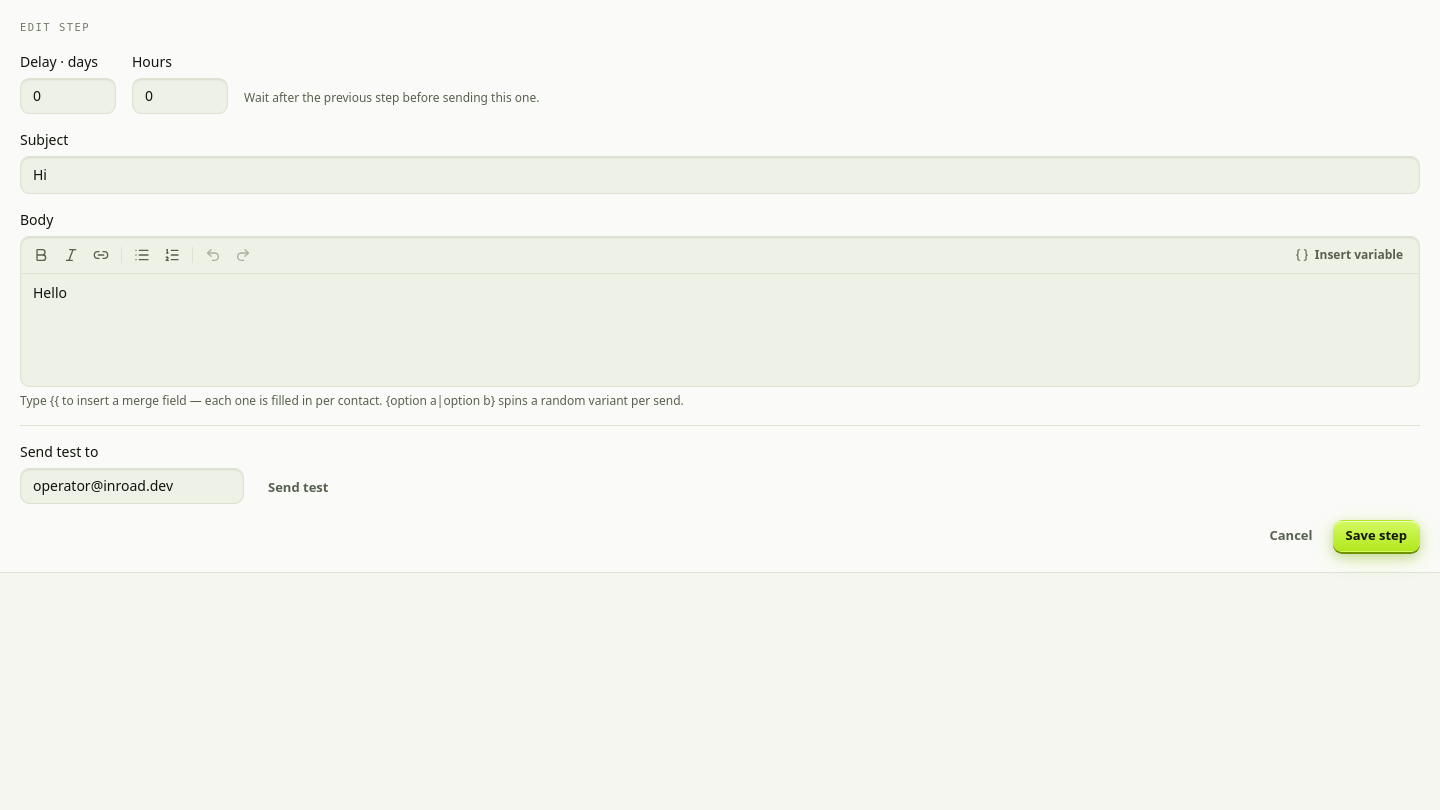
Test: a custom address overrides the default and is the one sent + echoed
Replace the text in the field labelled "Send test to" with "reviewer@inroad.dev": (132, 486) 20,468 -> 244,504
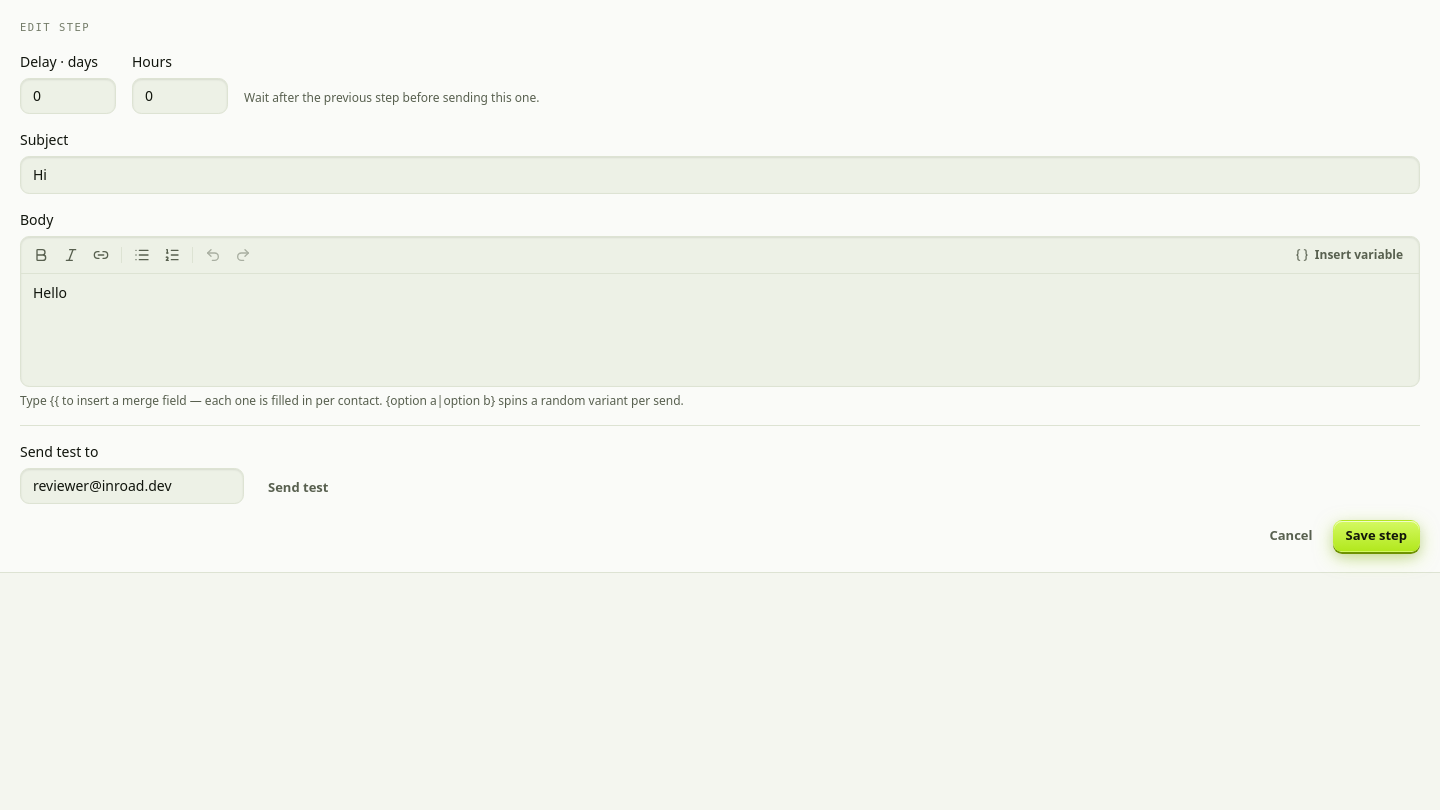
Click the button "Send test": (298, 488) 256,472 -> 340,504
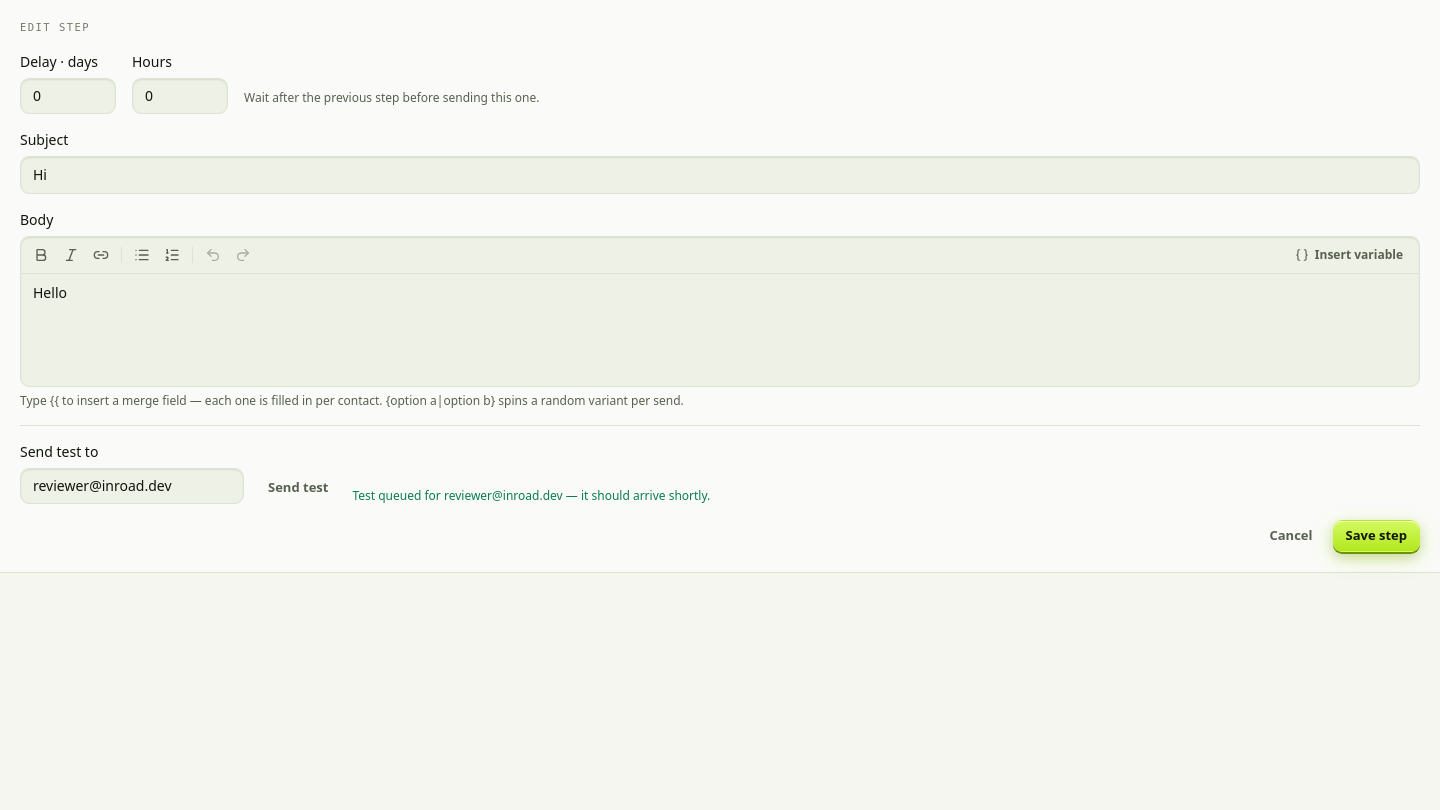
Expected: the text "Test queued for reviewer@inroad.dev — it should arrive shortly." is shown, 352,488 -> 710,504
